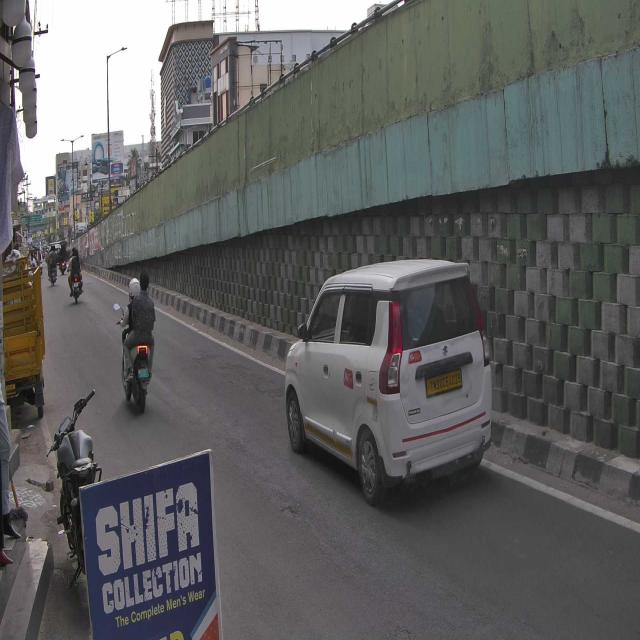double_rider: (112, 268, 158, 413)
